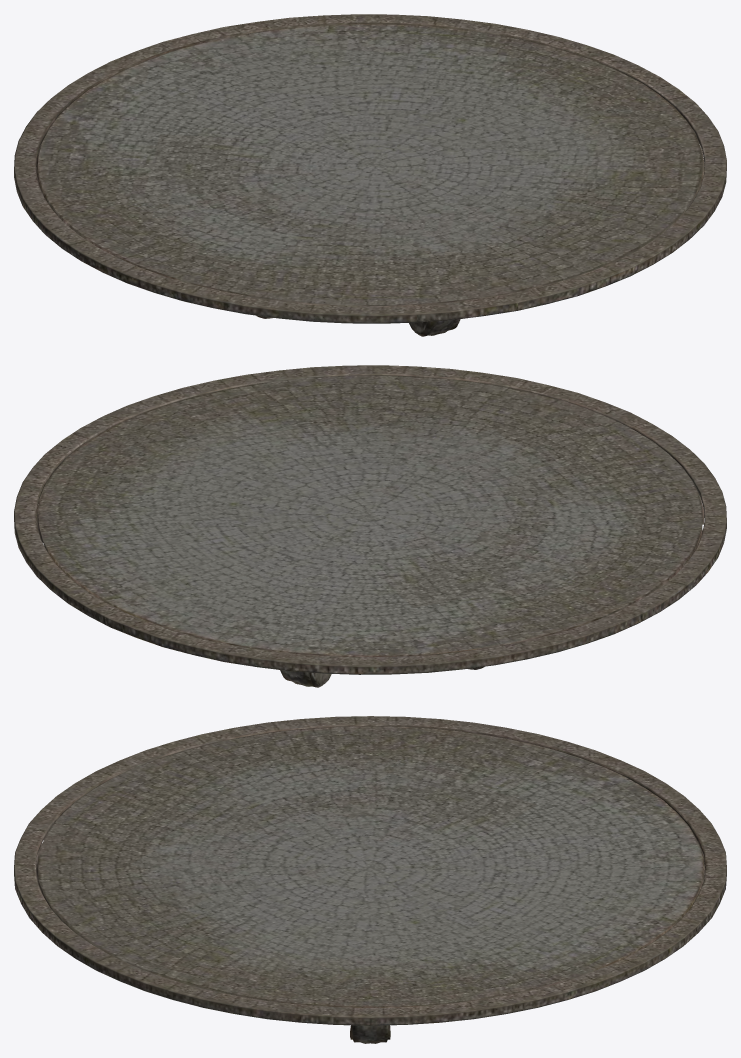
The model's file is concept_4k_round_stone_mosaic.glb.
3 renders of one model, top to bottom at view 1: azimuth 30°, elevation 25°; view 2: azimuth 150°, elevation 25°; view 3: azimuth 270°, elevation 25°, orthographic.
Visible parts, largest first — view 1: tripo_61ad6af8_f924_40fc_8135_91a8f7173cc7; view 2: tripo_61ad6af8_f924_40fc_8135_91a8f7173cc7; view 3: tripo_61ad6af8_f924_40fc_8135_91a8f7173cc7.
Boxes of the visible parts, x1,y1,x2,y2 form: tripo_61ad6af8_f924_40fc_8135_91a8f7173cc7: (14,14,726,336); tripo_61ad6af8_f924_40fc_8135_91a8f7173cc7: (14,365,726,687); tripo_61ad6af8_f924_40fc_8135_91a8f7173cc7: (14,716,726,1043).
Bounding box in the file's own units: 0.9995 × 0.19 × 0.9995.
Materials: 1 (1 with a texture image).
